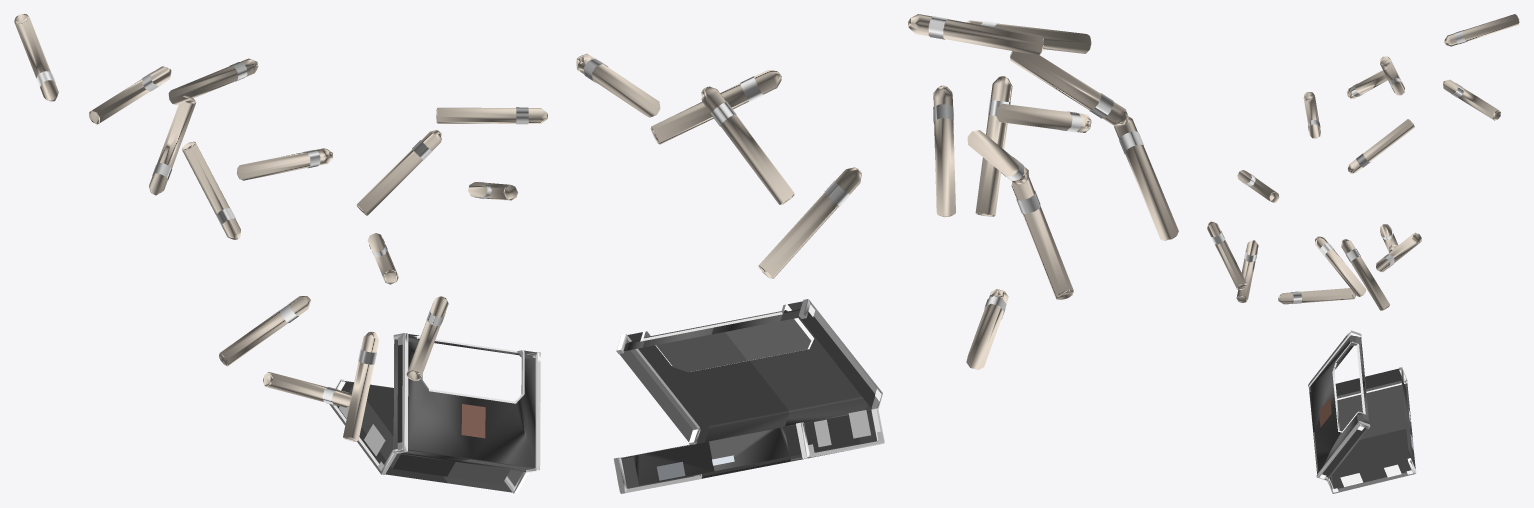
File: bar_mmhc_cigar_1_stack_a.glb
The picture shows the model from 3 angles, left to right: view 1: azimuth 30°, elevation 25°; view 2: azimuth 150°, elevation 25°; view 3: azimuth 270°, elevation 25°; orthographic projection. The views are drawn at different scales.
Size of the model in its own units: 0.6238 by 0.6276 by 0.51.
